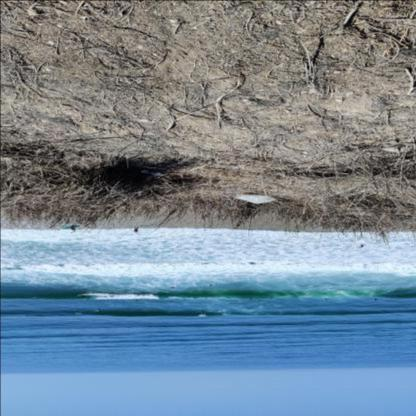Plastic bag - wrapper: (235, 195, 277, 204)
Unlabeled litter: (140, 170, 162, 176)
